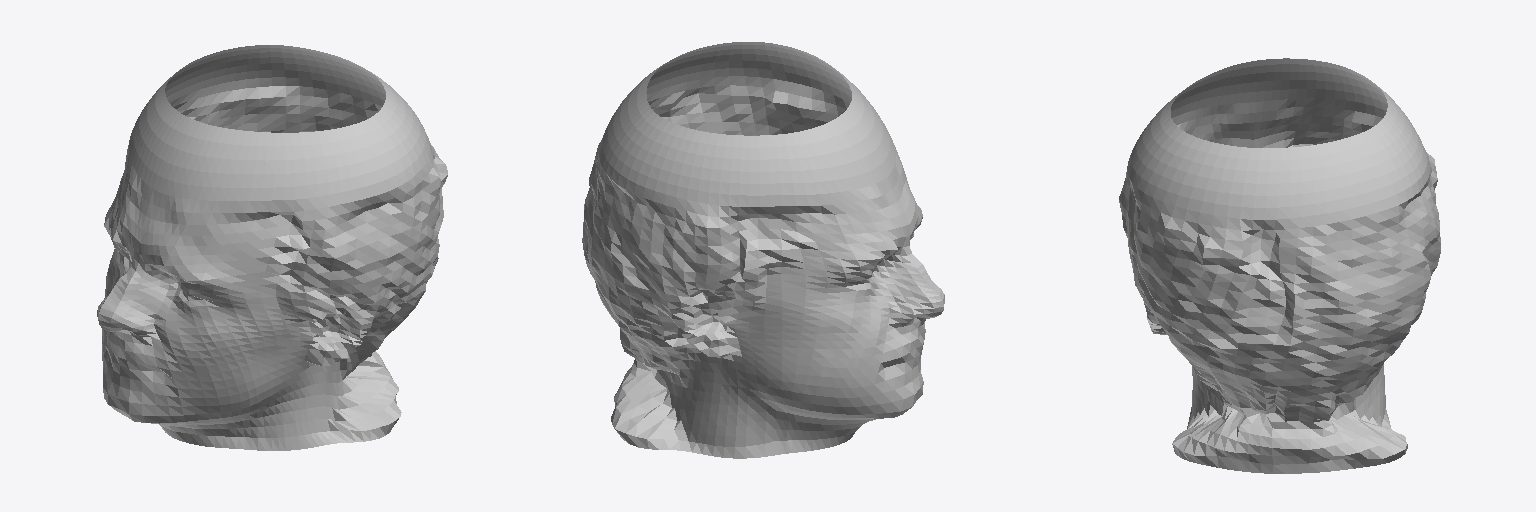
File: tomasz.obj
The picture shows the model from 3 angles: view 1: azimuth 30°, elevation 25°; view 2: azimuth 150°, elevation 25°; view 3: azimuth 270°, elevation 25°; orthographic projection.
Size of the model in its own units: 258 by 237 by 216.